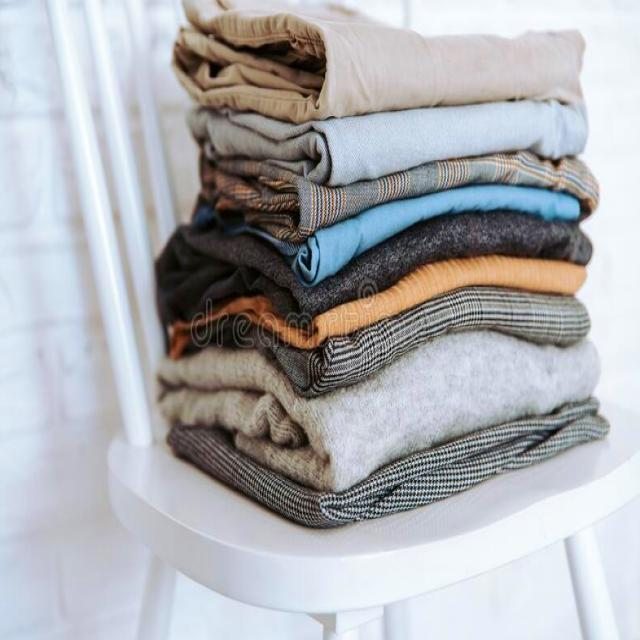clothes: (148, 11, 640, 560)
